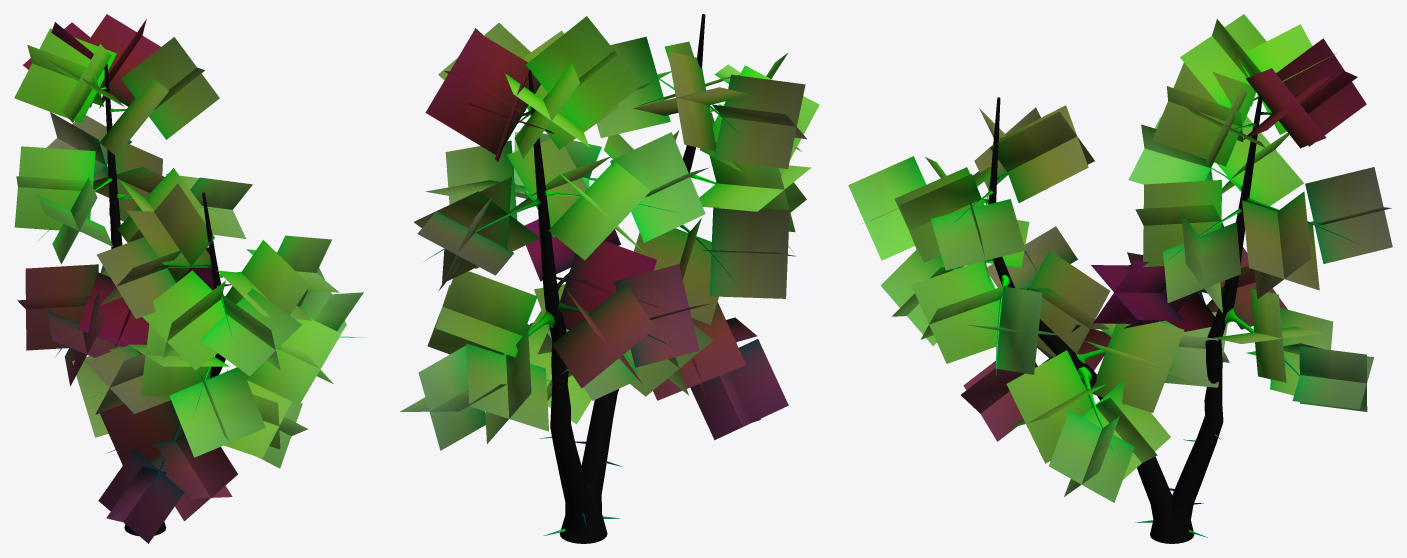
File: URP_P7_Tree_7_LOD_0.fbx
3 renders of one model, left to right at view 1: azimuth 30°, elevation 25°; view 2: azimuth 150°, elevation 25°; view 3: azimuth 270°, elevation 25°, orthographic. The views are drawn at different scales.
Visible parts, largest first — view 1: Tree_7_LOD_0; view 2: Tree_7_LOD_0; view 3: Tree_7_LOD_0.
Boxes of the visible parts, x1,y1,x2,y2 form: Tree_7_LOD_0: [14, 14, 369, 543]; Tree_7_LOD_0: [400, 14, 819, 543]; Tree_7_LOD_0: [848, 14, 1392, 543].
Size of the model in its own units: 239 by 420 by 412.
